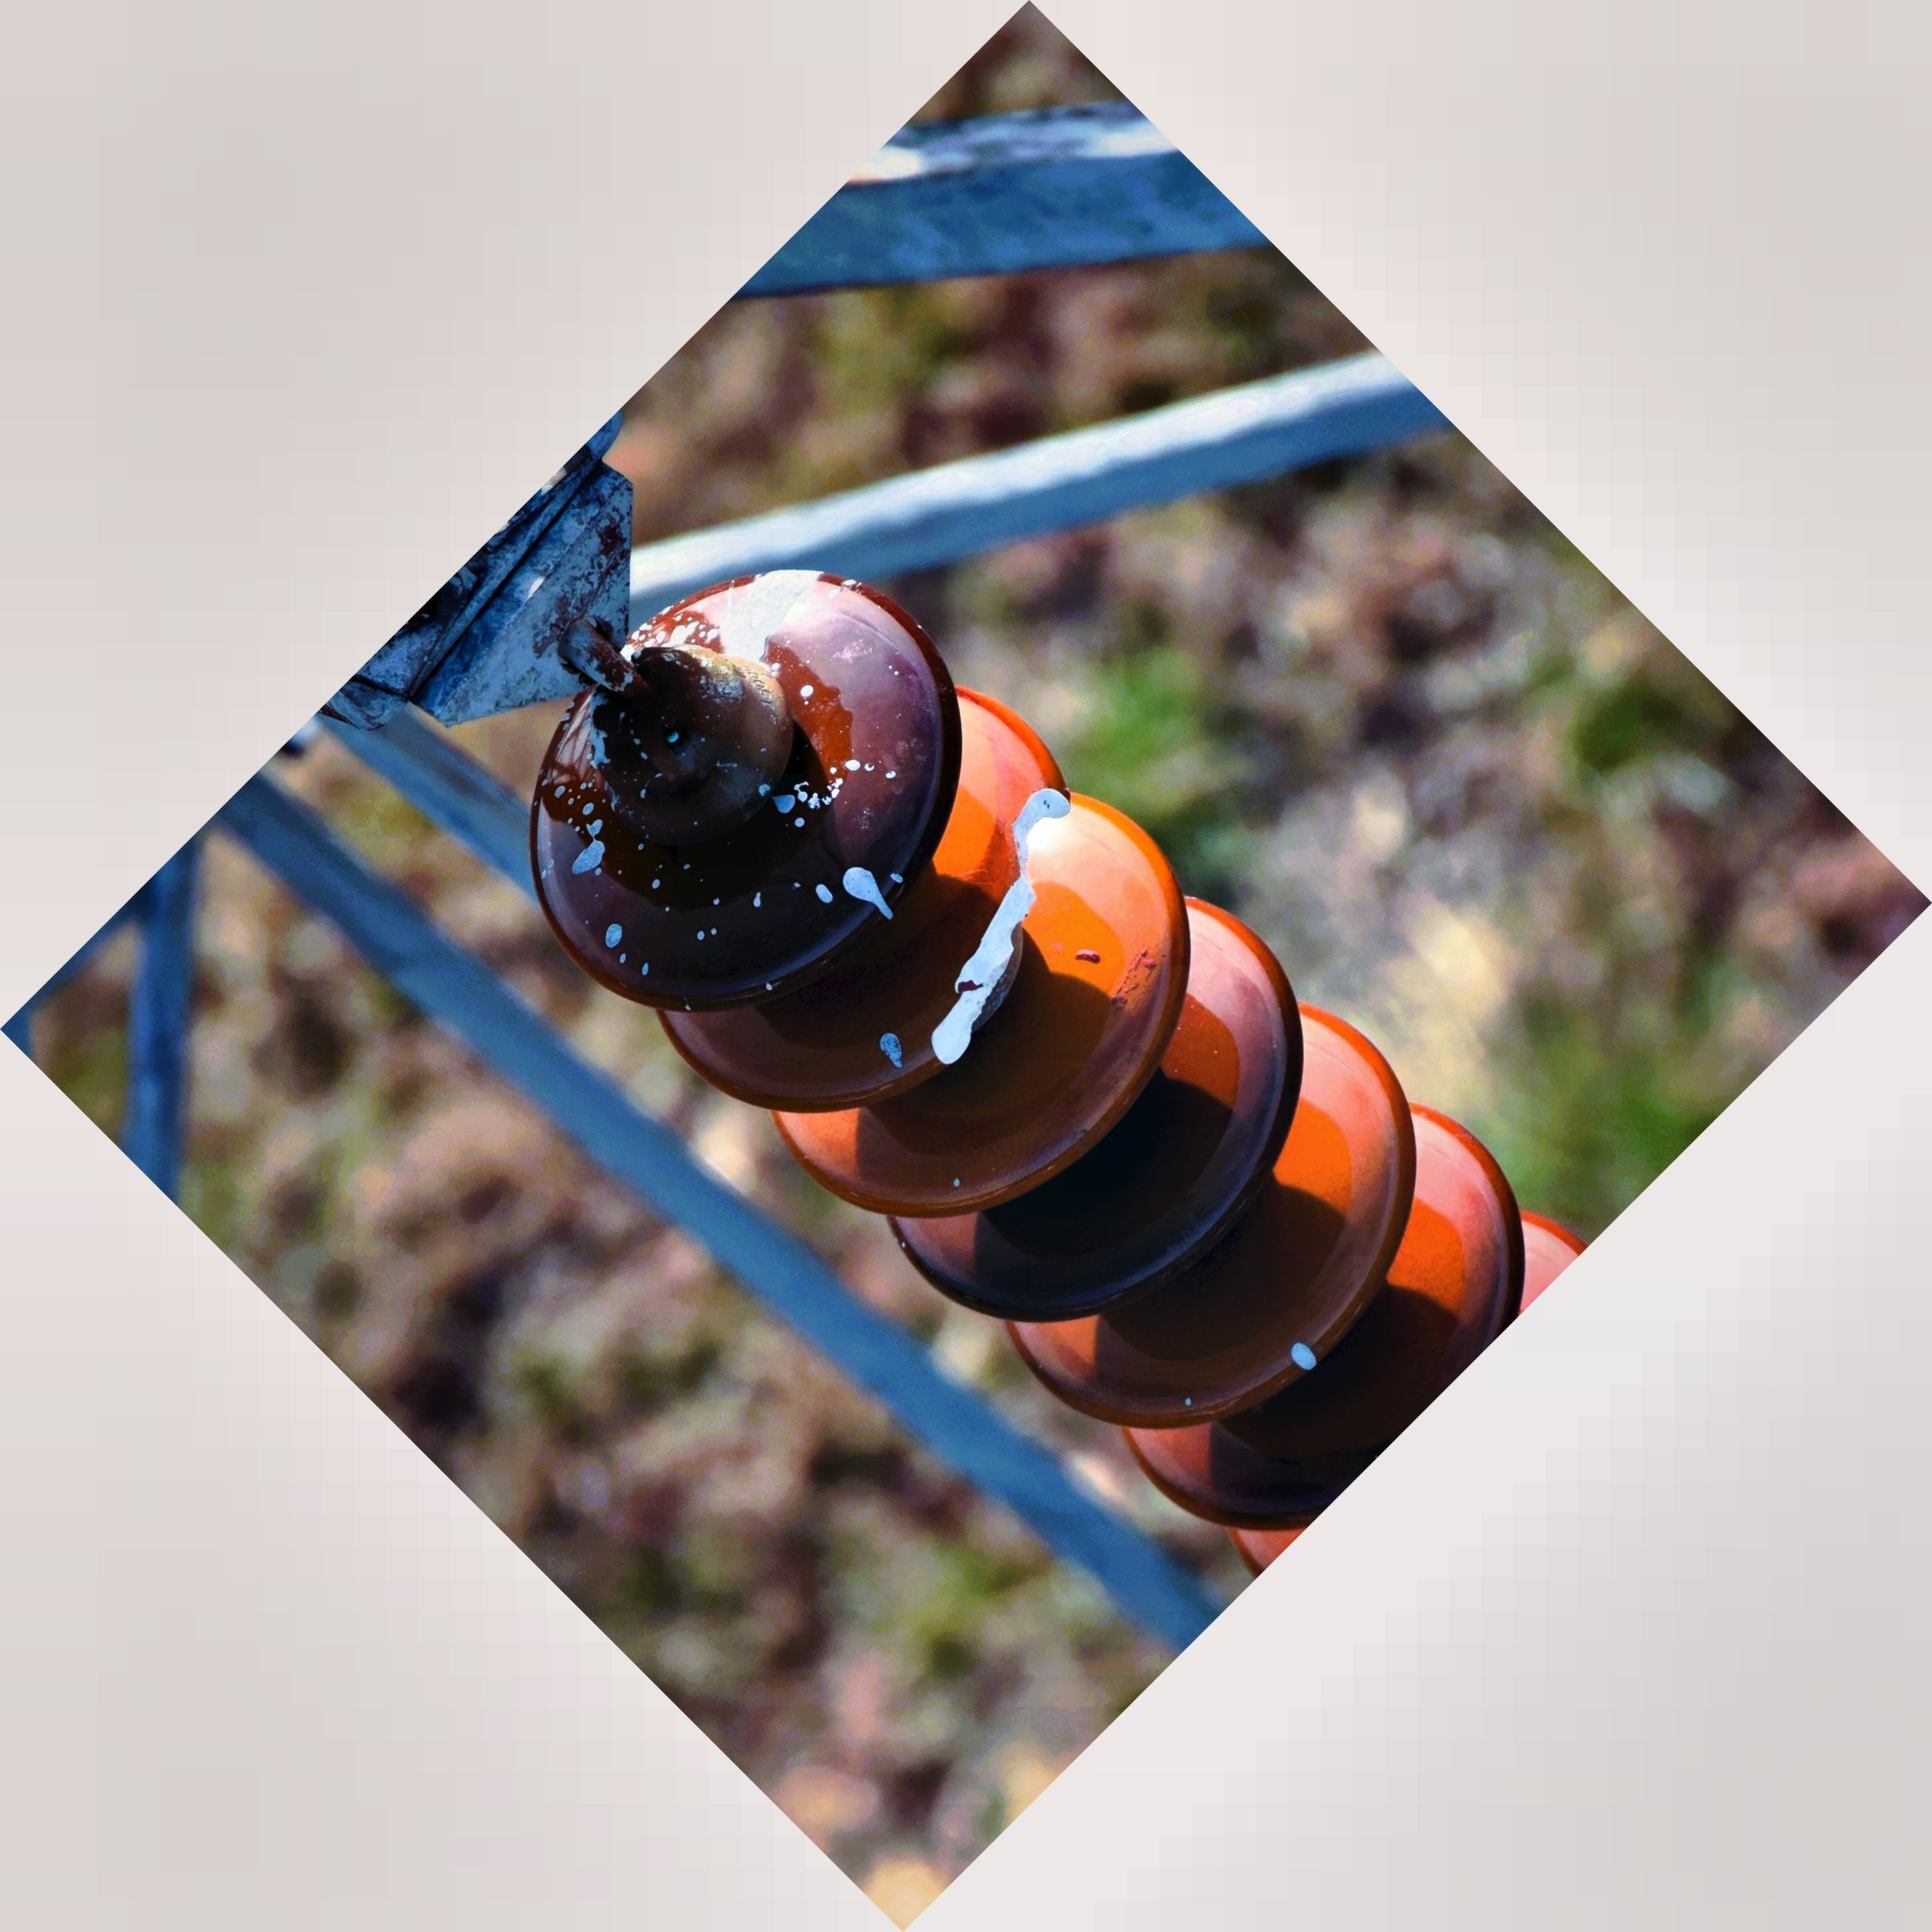insulator breakage: (683, 678, 1088, 1120)
